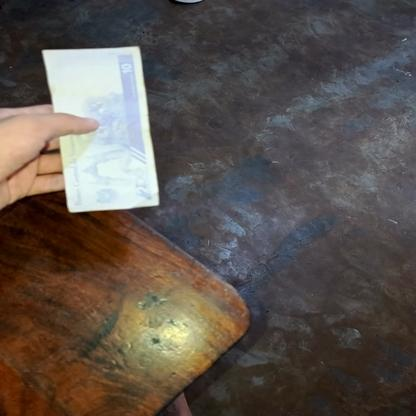ten-back-vef: (40, 46, 160, 212)
